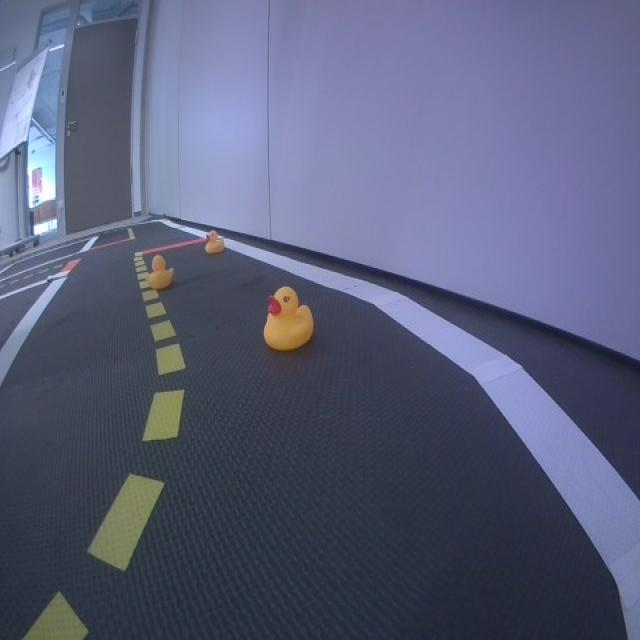duckie: (263, 286, 314, 352), (146, 254, 177, 293), (204, 230, 224, 253)
